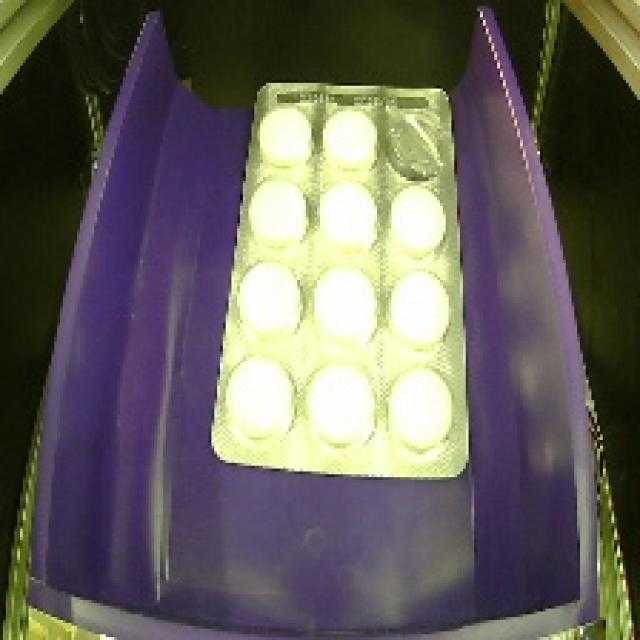med_plate: (199, 63, 478, 493)
